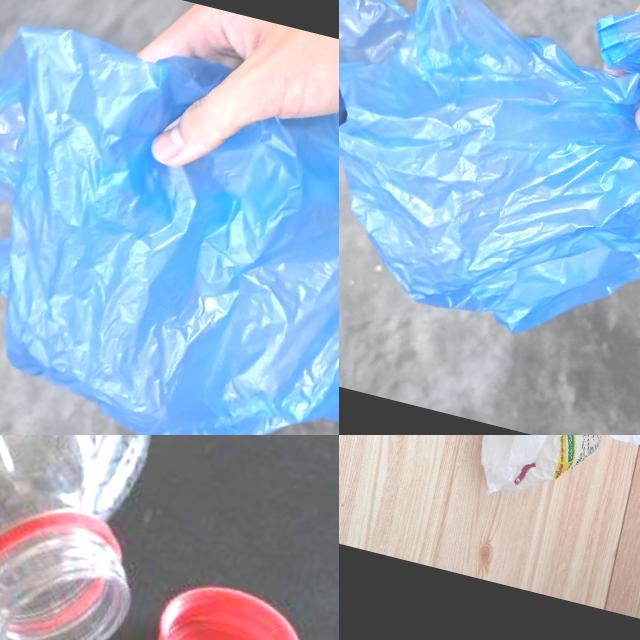garrafa plástica: (0, 435, 184, 640)
sacola plástica: (0, 0, 339, 435), (339, 0, 640, 404), (395, 435, 640, 532)
tampa plástica: (140, 568, 314, 640)
